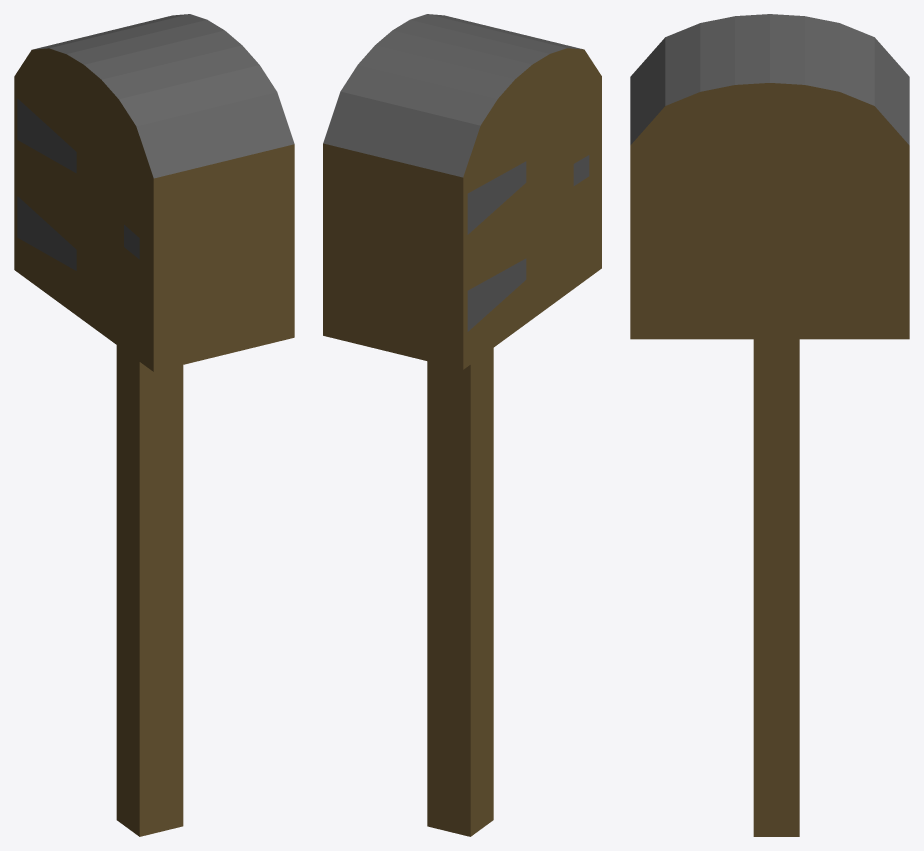
File: token-block-machine-cabinet.dae
3 views of the same model, side by side, from view 1: azimuth 30°, elevation 25°; view 2: azimuth 150°, elevation 25°; view 3: azimuth 270°, elevation 25° (orthographic).
Parts seen in each view (by area): view 1: Cube_023, Cube_022, Plane, Plane_001; view 2: Cube_023, Cube_022, Plane, Plane_001; view 3: Cube_023, Cube_022.
Part boxes in pixels (x1,y1,x2,y2): Cube_023: [14, 14, 294, 371]; Cube_022: [116, 345, 183, 836]; Plane: [17, 98, 76, 173]; Plane_001: [17, 196, 76, 270]; Cube_023: [323, 14, 601, 369]; Cube_022: [427, 348, 493, 836]; Plane: [467, 161, 526, 234]; Plane_001: [467, 258, 526, 331]; Cube_023: [630, 14, 909, 339]; Cube_022: [753, 339, 799, 836].
Size of the model in its own units: 0.3517 by 0.6 by 1.85.
